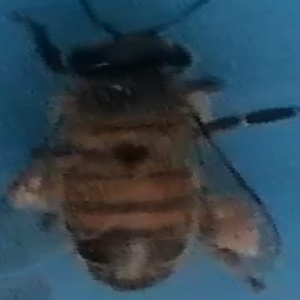bee: (5, 7, 280, 293)
